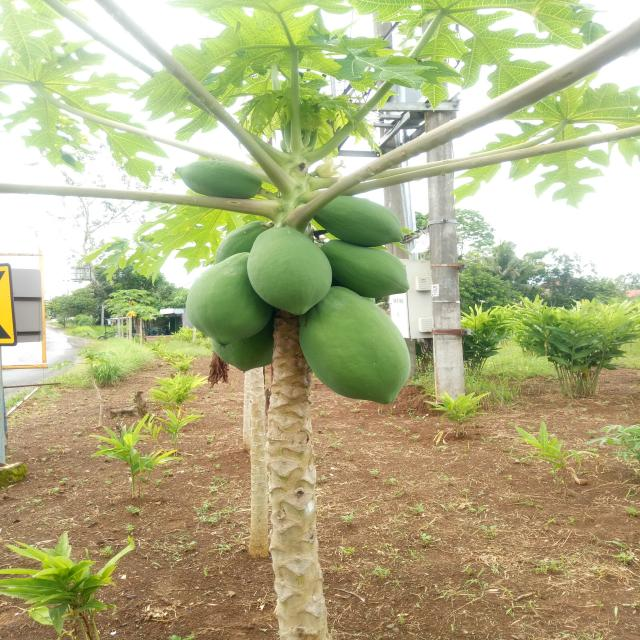Pepaya unrippen: (308, 302, 413, 412), (254, 223, 335, 315), (186, 252, 267, 341), (312, 192, 402, 247), (325, 243, 410, 293), (174, 158, 264, 202)
